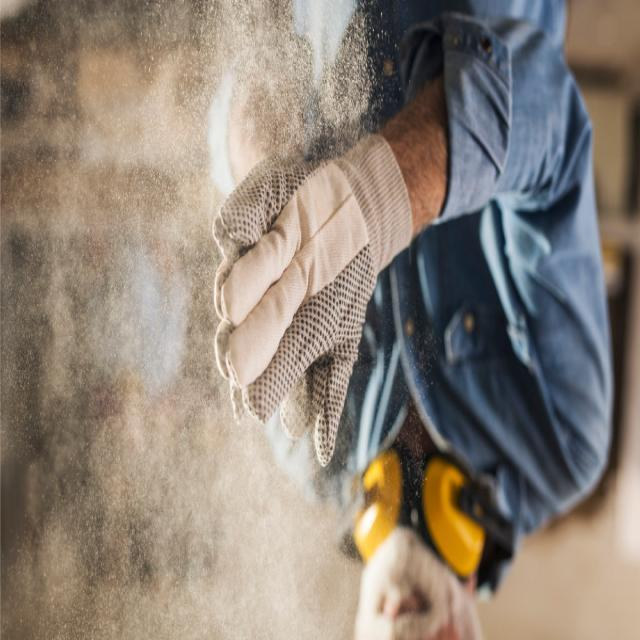gloves: (200, 125, 420, 471)
